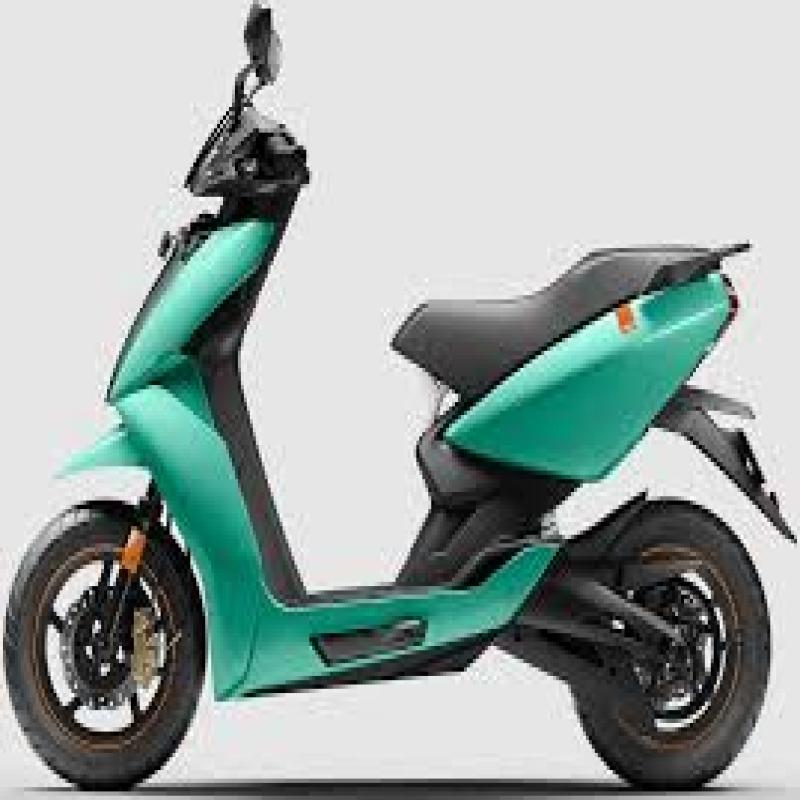bike: (20, 2, 791, 787)
